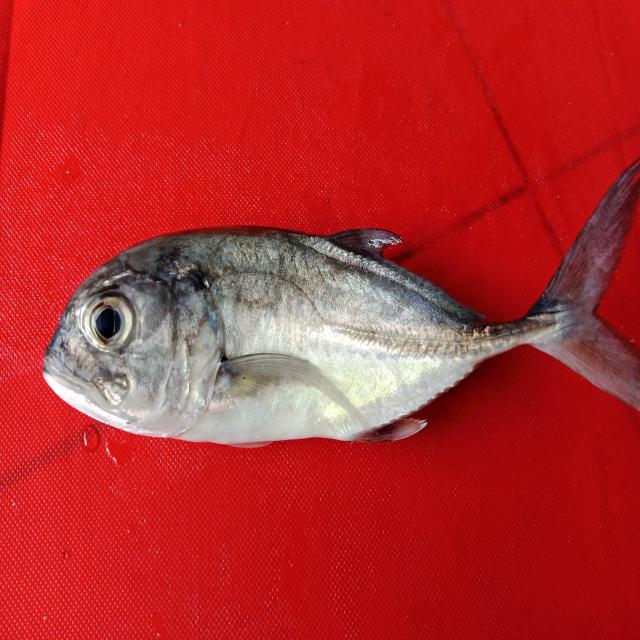ikan: (34, 167, 631, 460)
